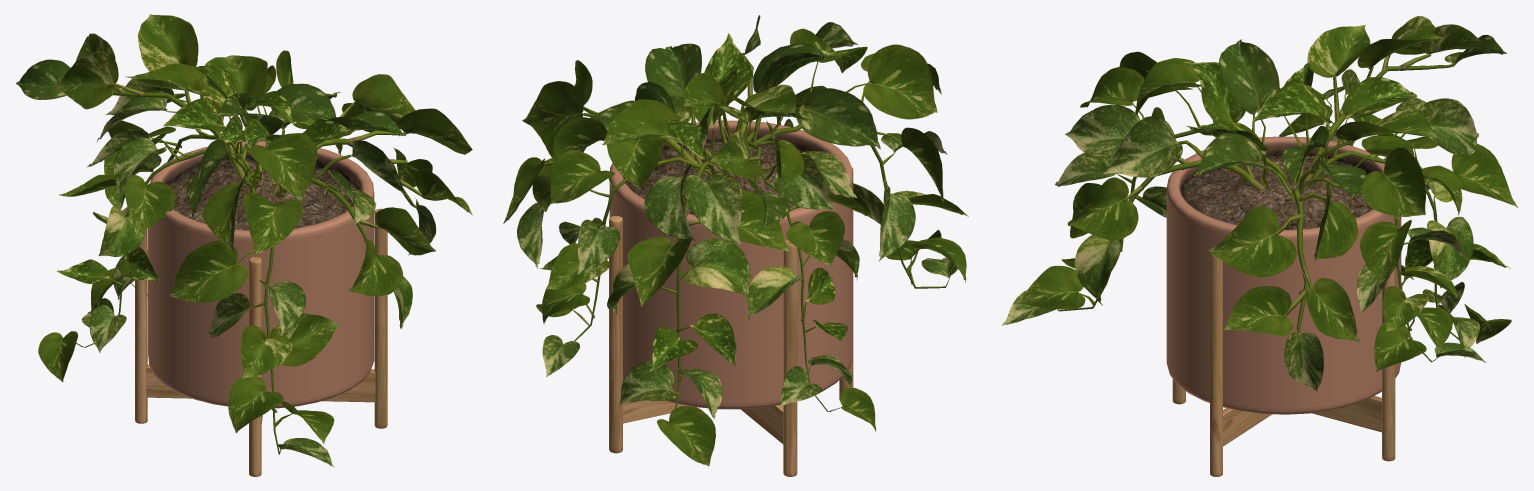
File: plant-transformed.glb
The picture shows the model from 3 angles, left to right: view 1: azimuth 30°, elevation 25°; view 2: azimuth 150°, elevation 25°; view 3: azimuth 270°, elevation 25°; orthographic projection. The views are drawn at different scales.
Visible parts, largest first — view 1: POTHOS_POTHOS_Mat_0, POT_WOOD_LEGS_WOODEN_LEGS_POT_0; view 2: POTHOS_POTHOS_Mat_0, POT_WOOD_LEGS_WOODEN_LEGS_POT_0; view 3: POTHOS_POTHOS_Mat_0, POT_WOOD_LEGS_WOODEN_LEGS_POT_0.
Boxes of the visible parts, x1,y1,x2,y2 form: POTHOS_POTHOS_Mat_0: (16,14,472,467); POT_WOOD_LEGS_WOODEN_LEGS_POT_0: (135,141,387,476); POTHOS_POTHOS_Mat_0: (503,15,968,466); POT_WOOD_LEGS_WOODEN_LEGS_POT_0: (609,120,853,476); POTHOS_POTHOS_Mat_0: (1001,16,1517,391); POT_WOOD_LEGS_WOODEN_LEGS_POT_0: (1166,136,1401,476).
Size of the model in its own units: 0.8266 by 0.7918 by 0.9741.
Materials: 2 (2 with a texture image).
